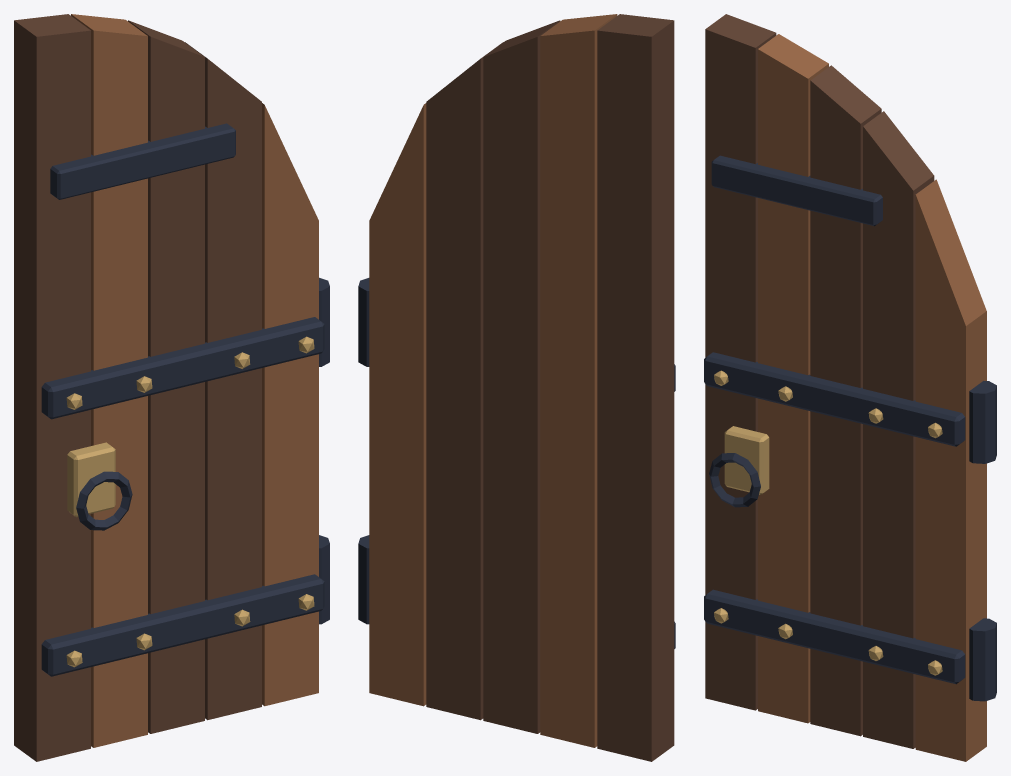
File: EG_Puerta_Hoja_D.fbx
The picture shows the model from 3 angles, left to right: view 1: azimuth 30°, elevation 25°; view 2: azimuth 150°, elevation 25°; view 3: azimuth 330°, elevation 25°; orthographic projection. The views are drawn at different scales.
Parts seen in each view (by area): view 1: EG_Puerta_Hoja_D; view 2: EG_Puerta_Hoja_D; view 3: EG_Puerta_Hoja_D.
Part boxes in pixels (x1=…): EG_Puerta_Hoja_D: x1=14, y1=14, x2=329, y2=761; EG_Puerta_Hoja_D: x1=358, y1=14, x2=675, y2=761; EG_Puerta_Hoja_D: x1=704, y1=14, x2=996, y2=761.
Bounding box in the file's own units: 1.08 × 2.48 × 0.268.
Materials: 1 (1 with a texture image).
